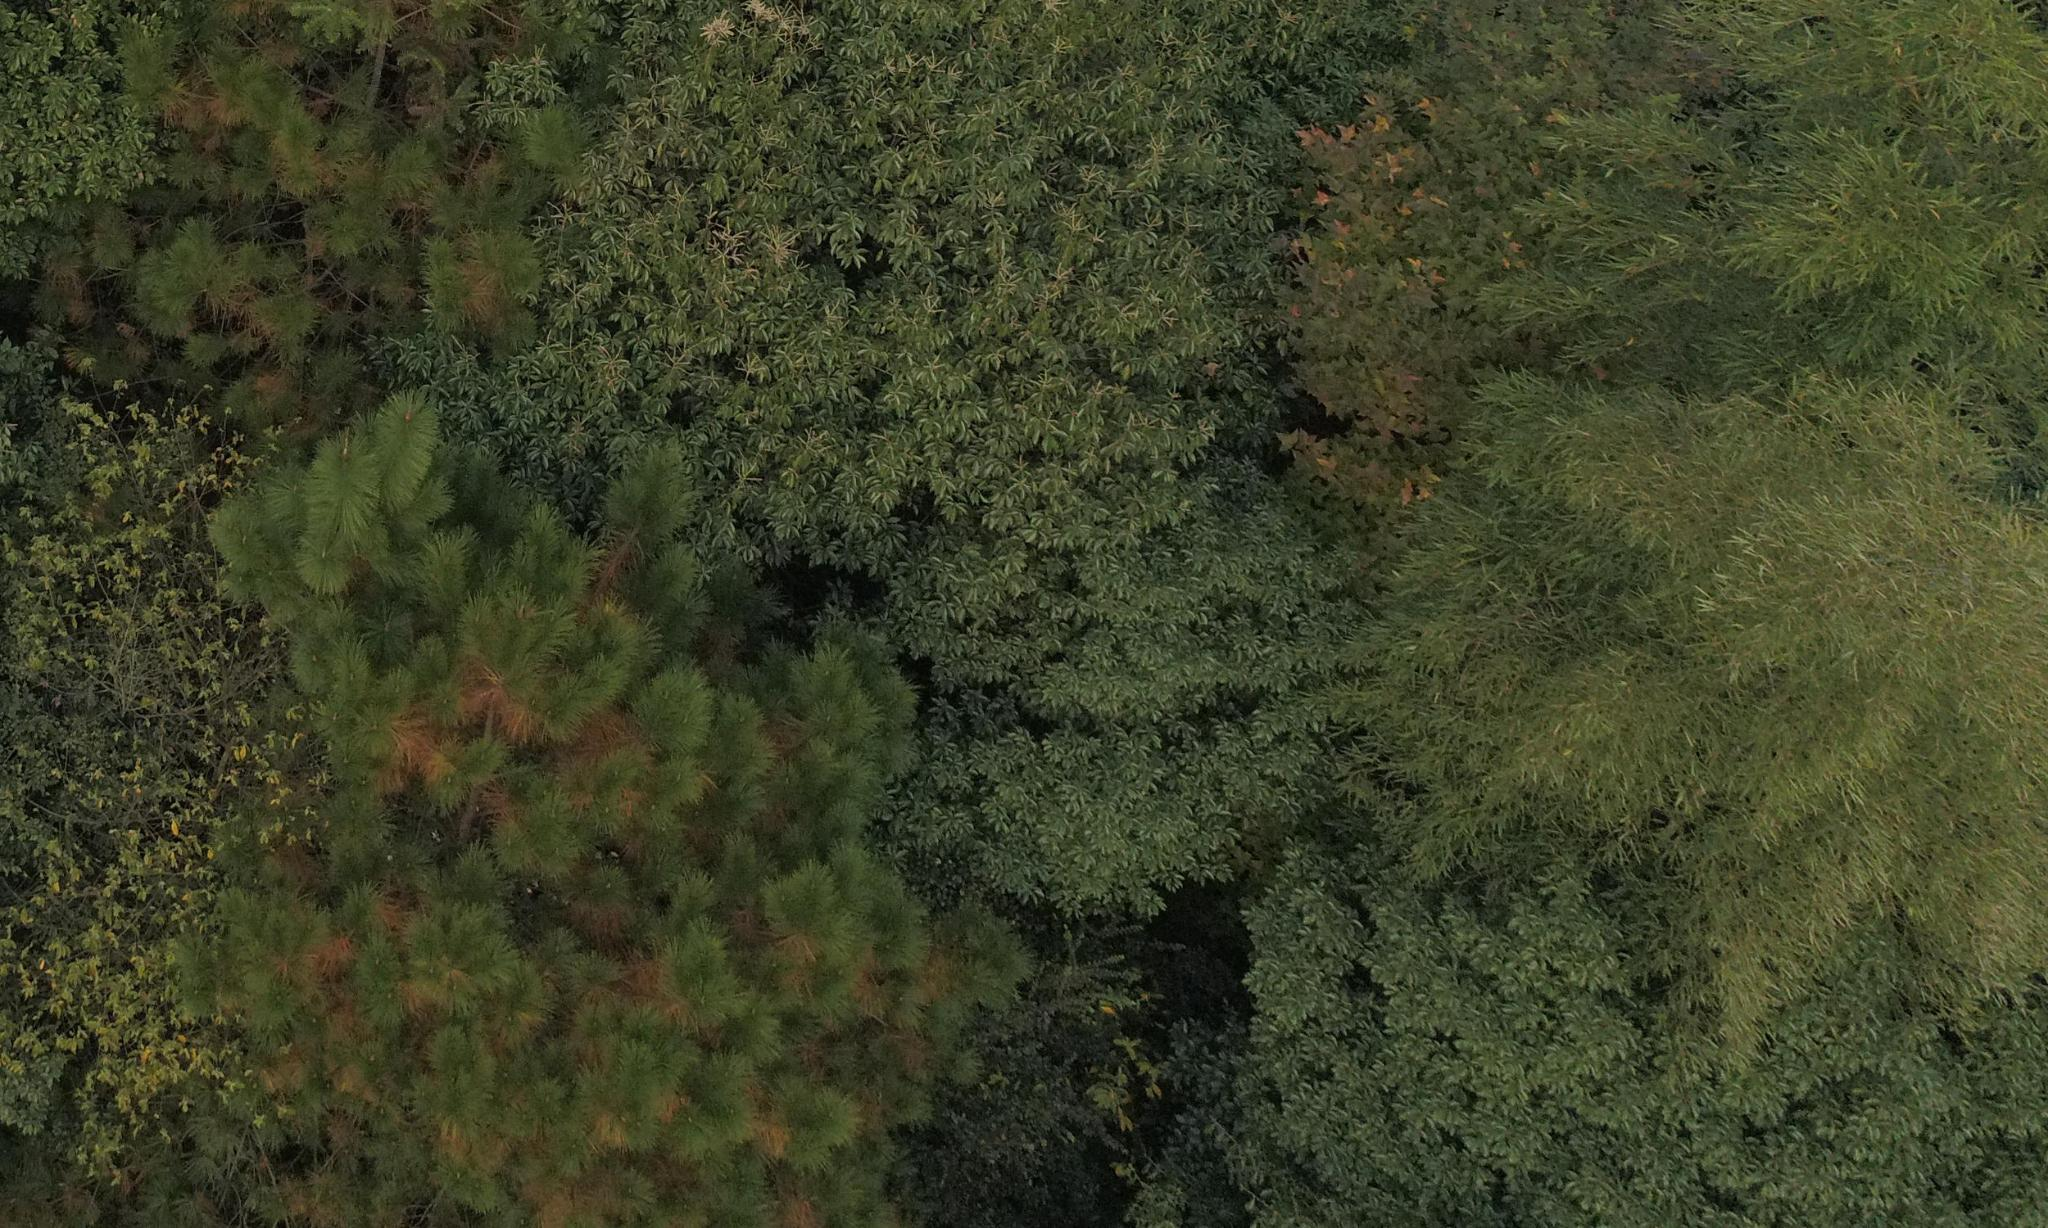light: (265, 532, 959, 1206), (73, 16, 545, 405)
